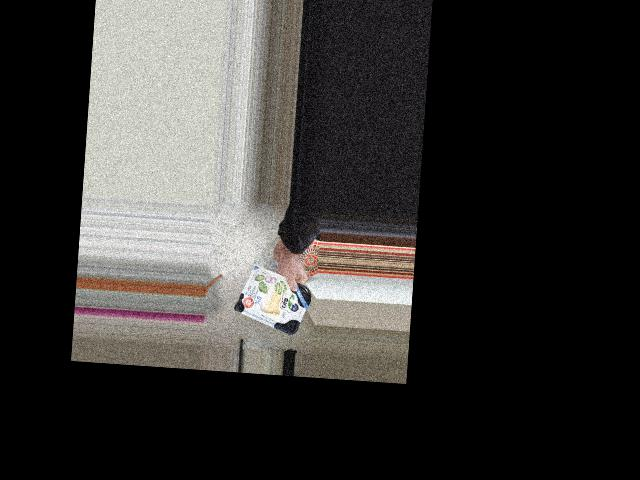cheese: (241, 270, 304, 322)
